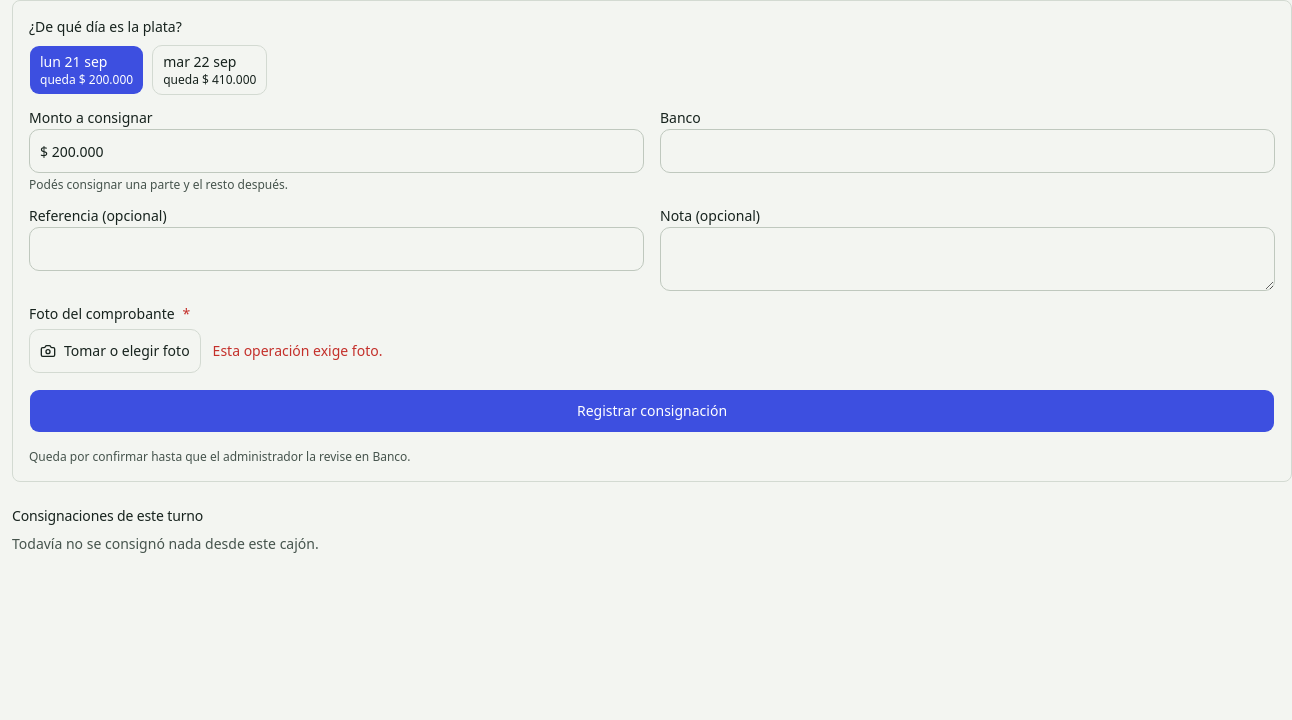
DepositDrawerPanel — consignar desde el POS › al elegir otro día, el monto se vuelve a precargar con lo que queda de ESE día
Expected: the field labelled "Monto a consignar" is shown, [29, 129, 644, 173]
Click the button "mar 22 sep queda $ 410.000": (210, 70) [152, 45, 267, 95]
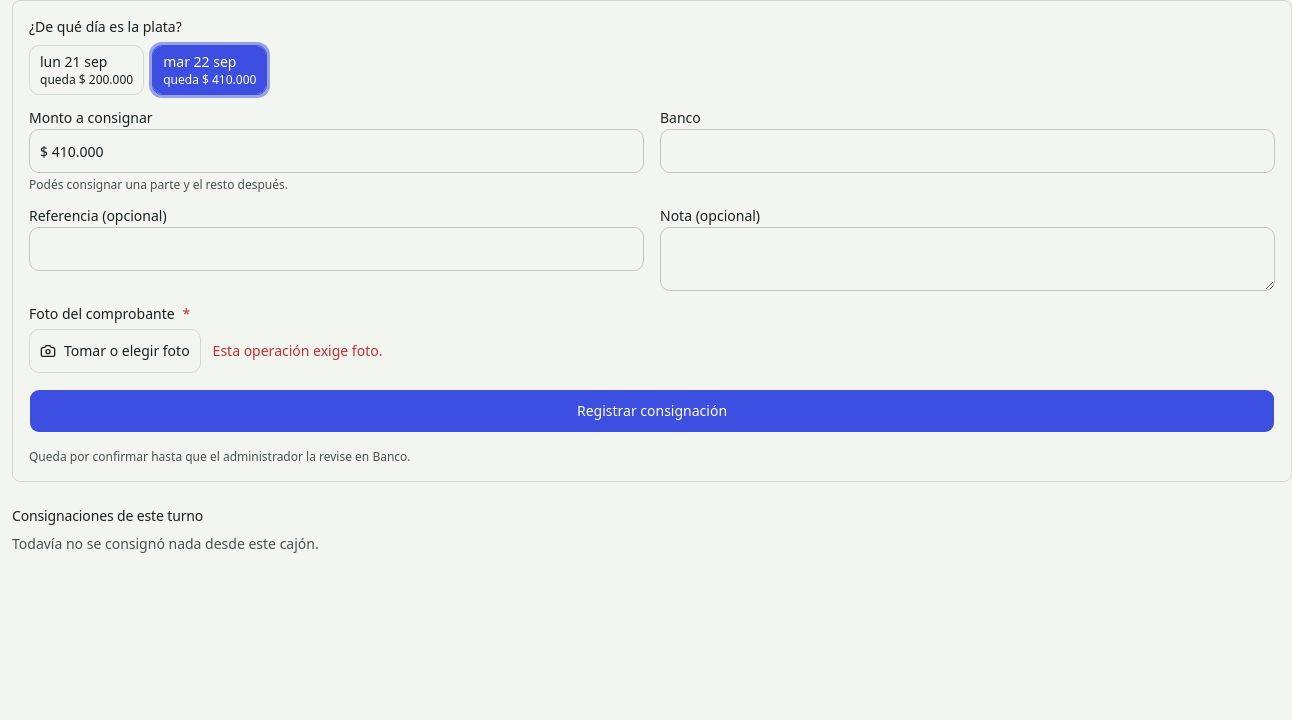
Now the field labelled "Monto a consignar" holds "$ 410.000", box [29, 129, 644, 173]
